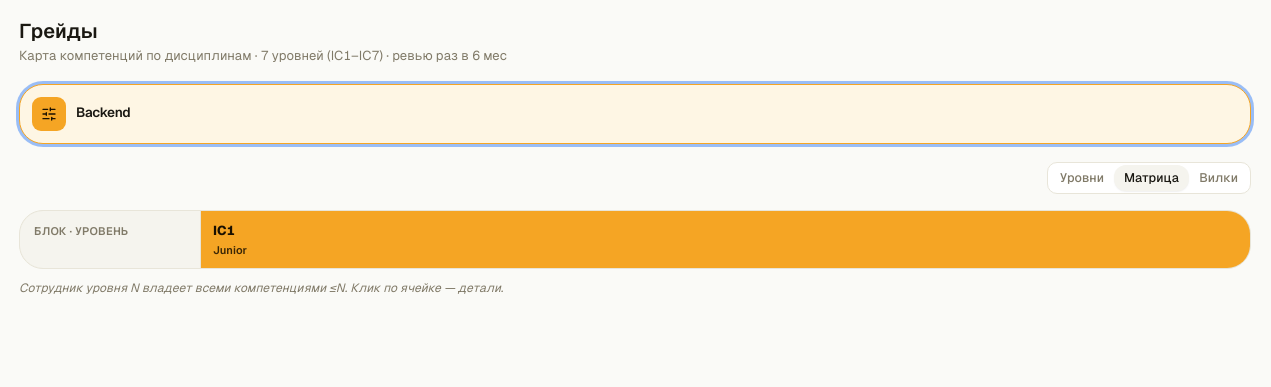
GradesClient bands gating › shows «Редактировать вилки» only on the Вилки tab when canEditBands
Expected: the button "Редактировать вилки" is not shown
Click the button "Вилки" at (1219, 178), box [1189, 164, 1248, 191]
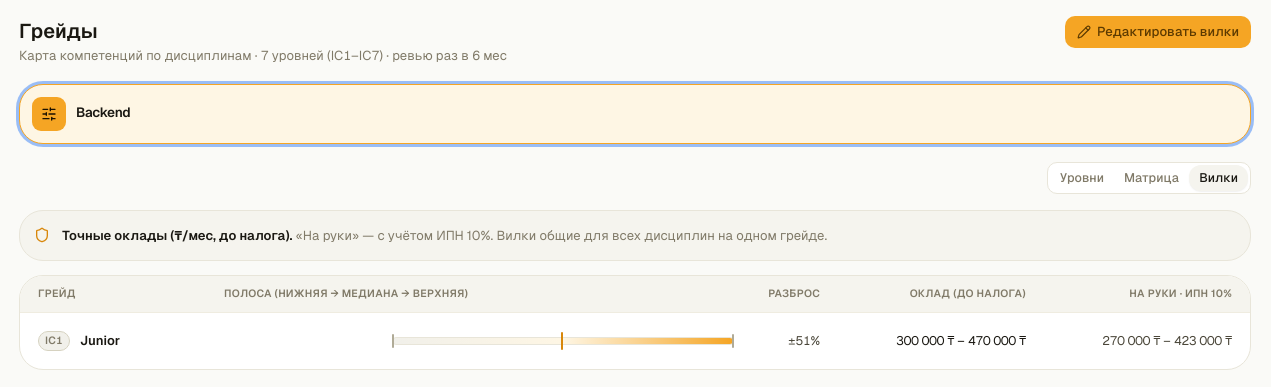
Expected: the button "Редактировать вилки" is shown, [1065, 16, 1251, 48]
